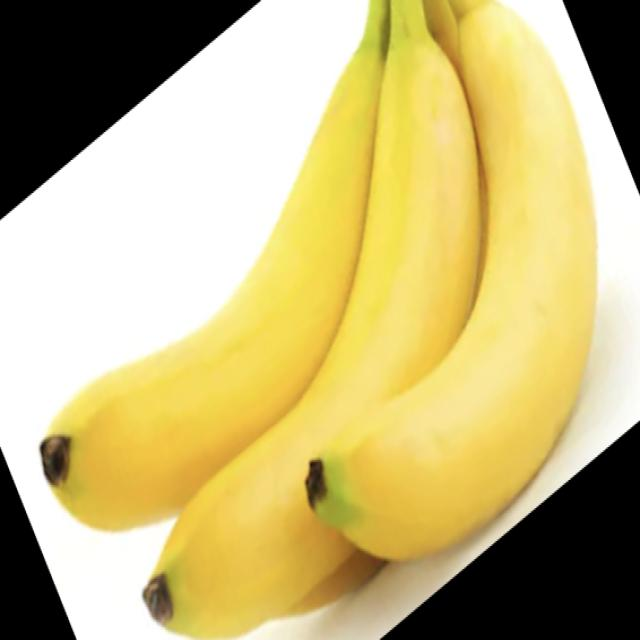banana: (111, 60, 585, 488)
